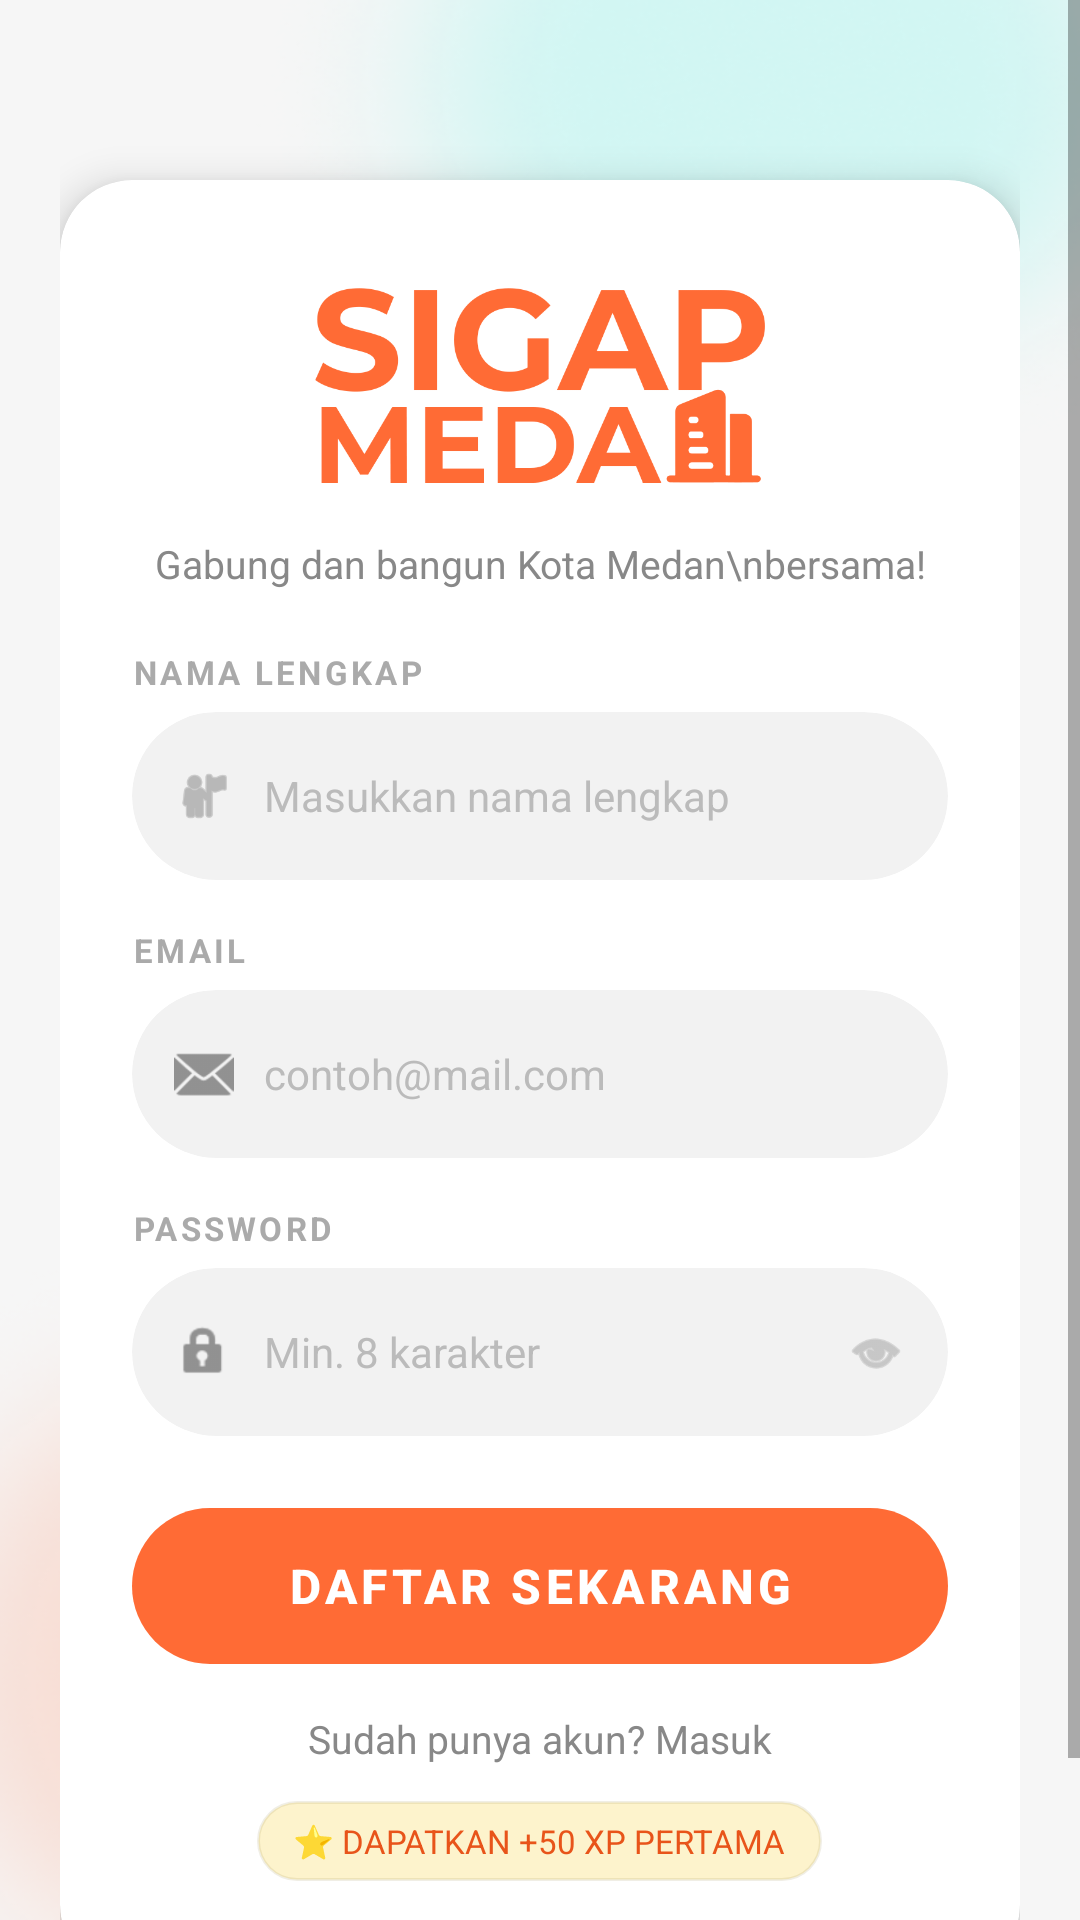

Screen size 1080 × 1920. Icon name, then its center in pixels as point (x, y):
lock idle: point (202, 1350)
view: point (876, 1353)
